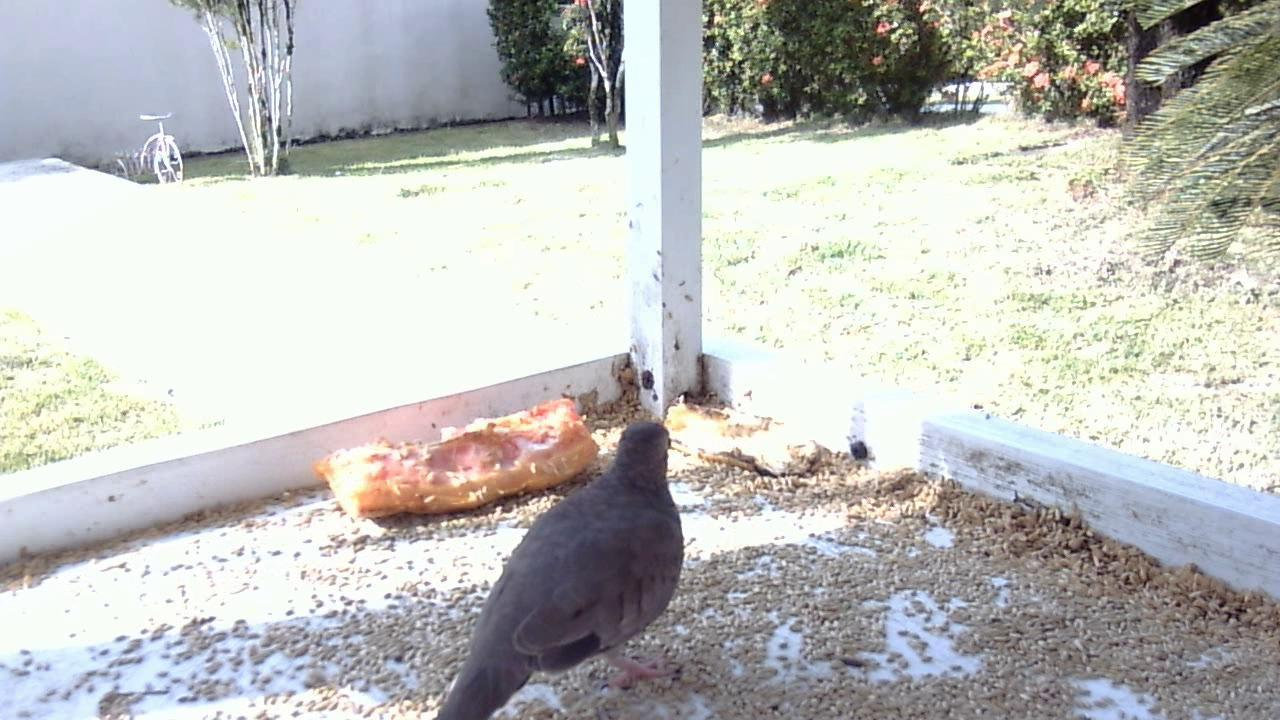rolinha: (425, 420, 690, 718)
